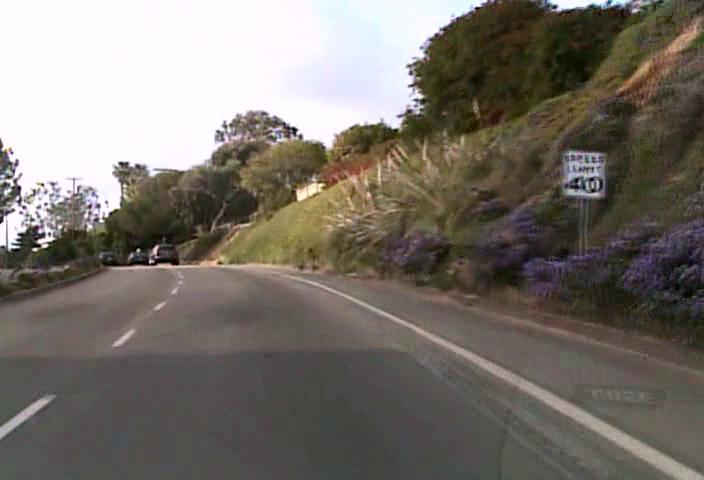speedLimit40: (560, 148, 607, 199)
